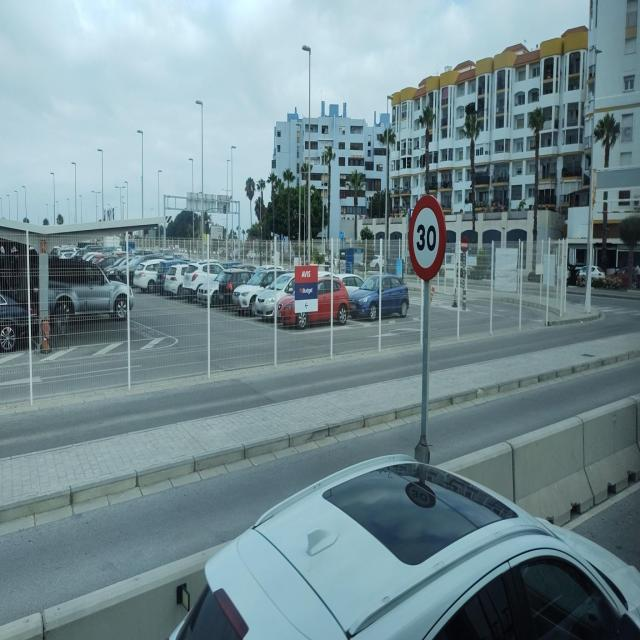car: (0, 241, 66, 350), (52, 258, 134, 318), (348, 274, 409, 320), (232, 267, 282, 316), (186, 261, 231, 306), (254, 273, 294, 321), (318, 274, 350, 325), (129, 260, 169, 293), (162, 263, 198, 298), (578, 263, 607, 288), (336, 273, 364, 297), (566, 262, 584, 287)
